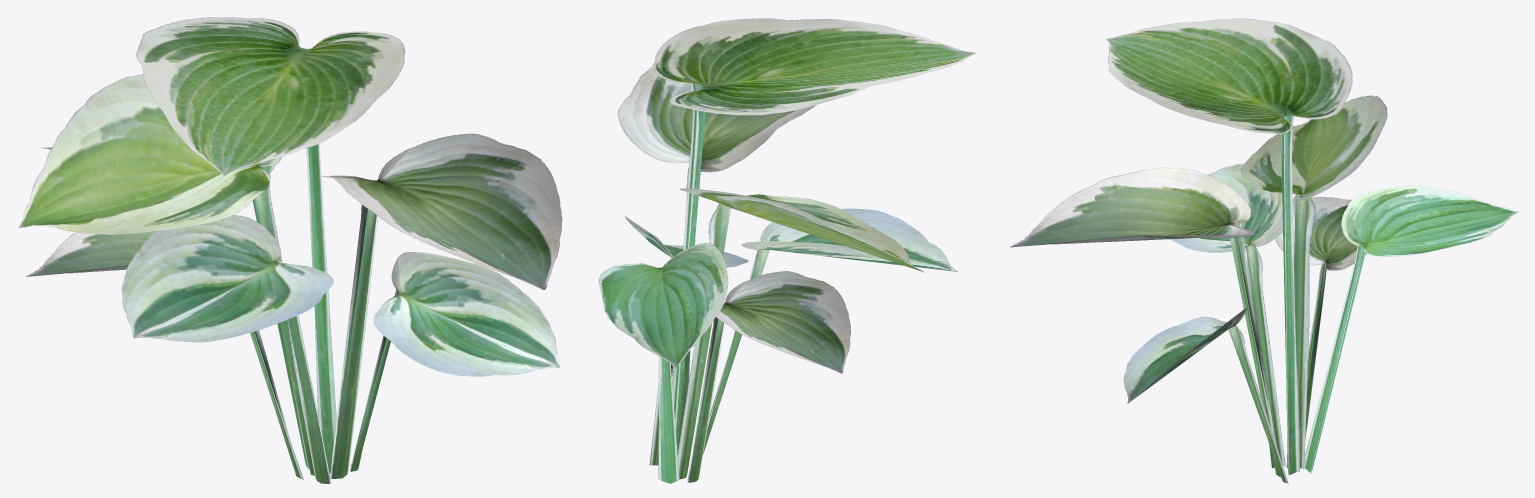
Rendered from plant_small_wg_00_c-corner02.fbx.
3 views of the same model, side by side, from view 1: azimuth 30°, elevation 25°; view 2: azimuth 150°, elevation 25°; view 3: azimuth 270°, elevation 25° (orthographic). The views are drawn at different scales.
Parts seen in each view (by area): view 1: plant_small_wg_00_c-corner02; view 2: plant_small_wg_00_c-corner02; view 3: plant_small_wg_00_c-corner02.
Part boxes in pixels (x1,y1,x2,y2): plant_small_wg_00_c-corner02: (18, 17, 562, 483); plant_small_wg_00_c-corner02: (598, 18, 975, 483); plant_small_wg_00_c-corner02: (1010, 18, 1518, 483).
Size of the model in its own units: 33.93 by 34.82 by 43.2.
1 material, 1 textured.
